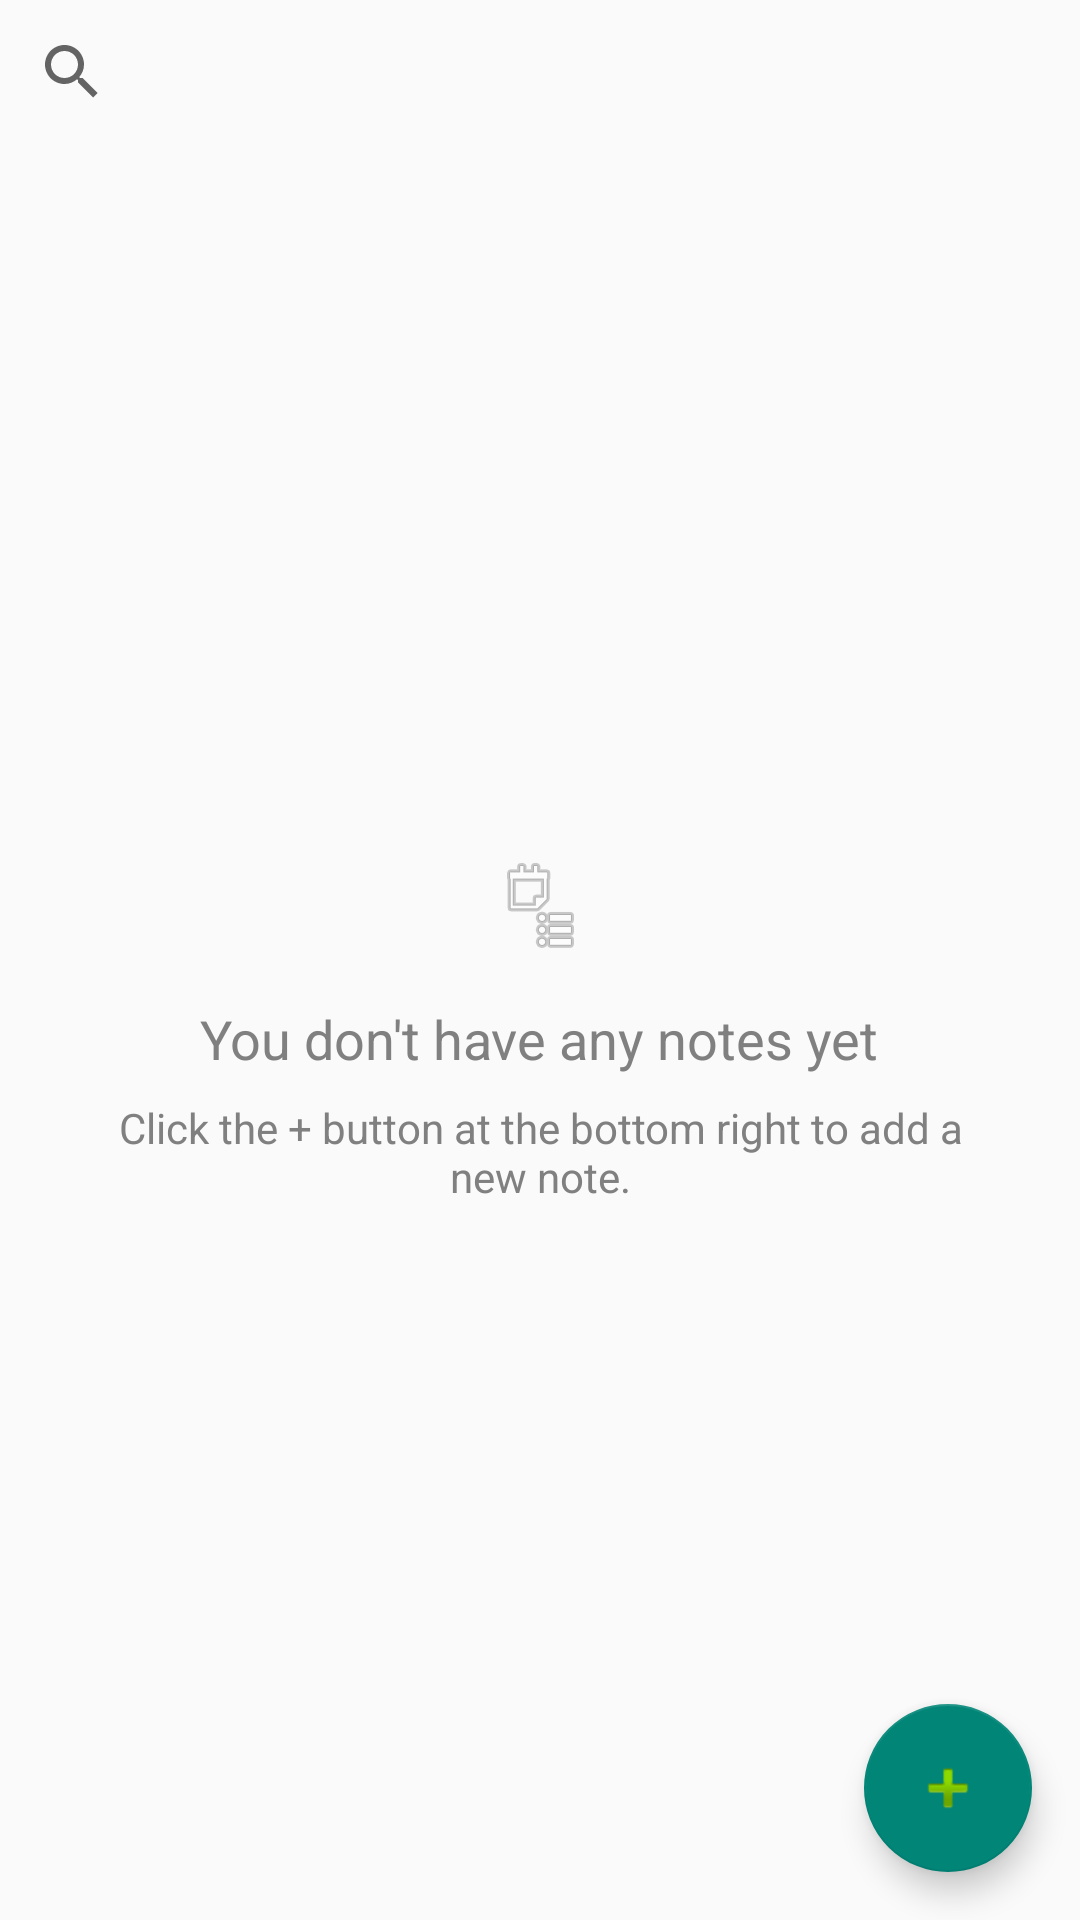

Icon click points for this 1080 x 1920 phone screenshot, format point (x, y):
add: point (948, 1788)
agenda: point (540, 905)
